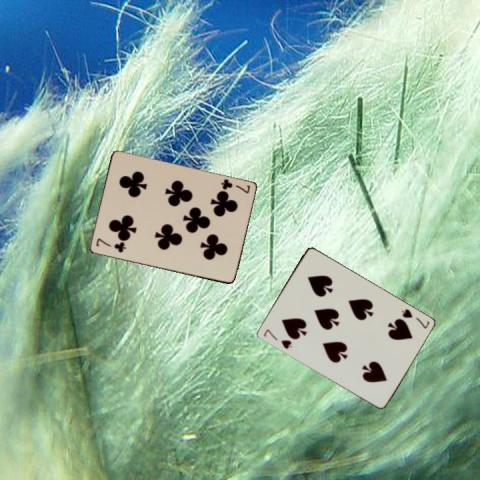7c: (92, 235, 126, 254), (218, 176, 251, 195)
7s: (260, 326, 293, 351), (398, 306, 431, 330)
